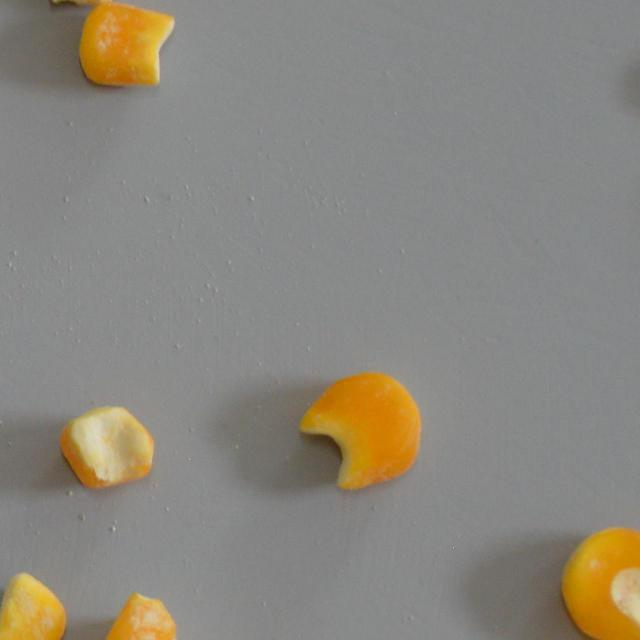no_canjicado: (559, 524, 640, 640)
pelicula: (296, 366, 422, 492), (76, 2, 174, 86), (60, 405, 156, 490), (0, 570, 68, 640), (98, 592, 182, 640)
